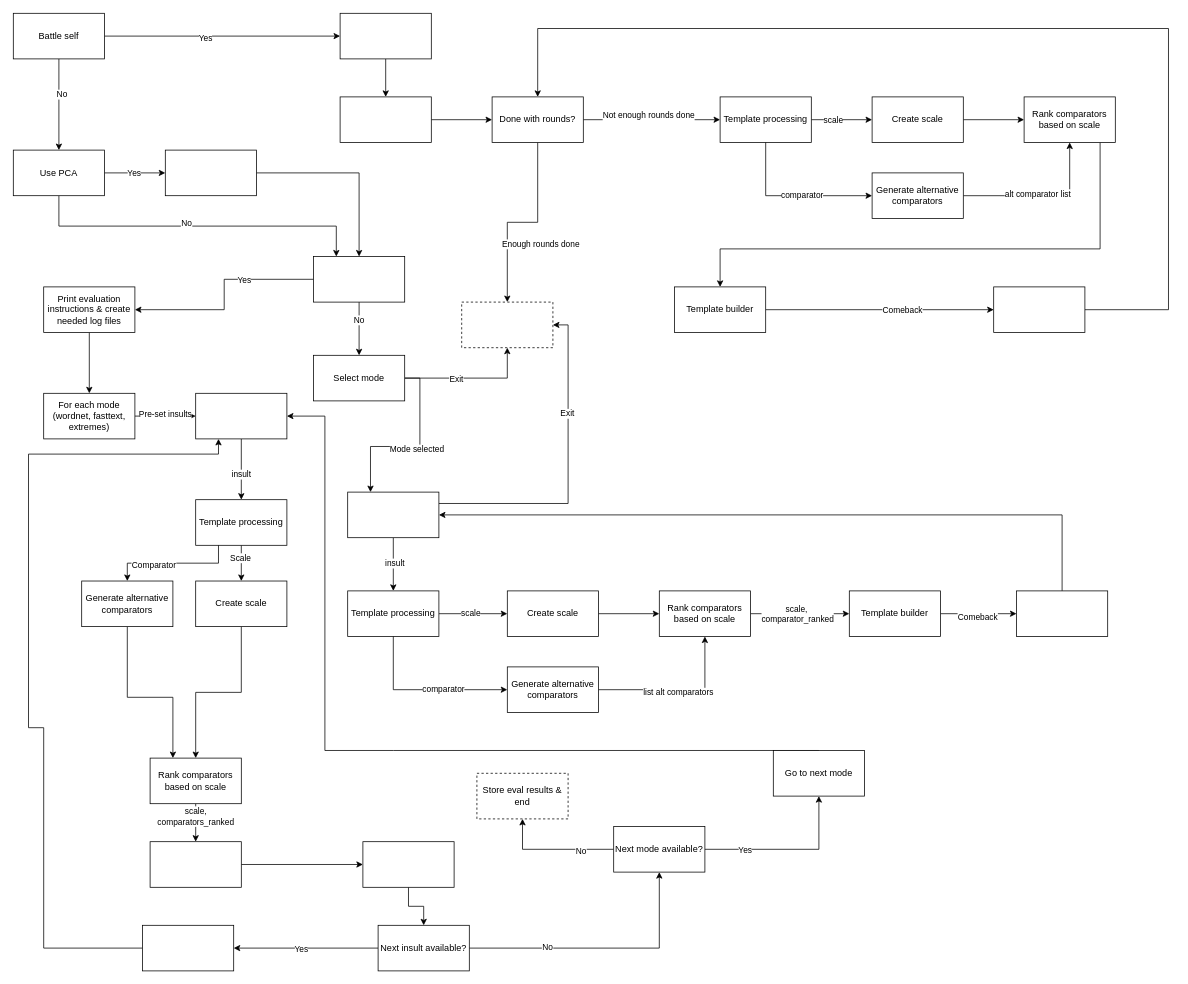
This 1188x984 diagram has some shape labels left out. The box of each missing label's shape, as (x1, y1, x2, y2) in pixels:
End: (461, 301, 553, 348)
Evaluating?: (313, 256, 405, 302)
Go to next insult: (142, 925, 234, 971)
Have user answer evaluation questions: (362, 841, 454, 887)
Input first insult: (339, 96, 431, 142)
Input insult: (347, 491, 439, 538)
Number of rounds: (339, 13, 431, 59)
PCA True: (165, 149, 256, 196)
Print comeback: (1016, 590, 1108, 636)
Print comeback Next insult is comeback: (993, 286, 1085, 332)
Start timers: (195, 393, 287, 439)
Take top 5 comparators: (149, 841, 241, 887)
